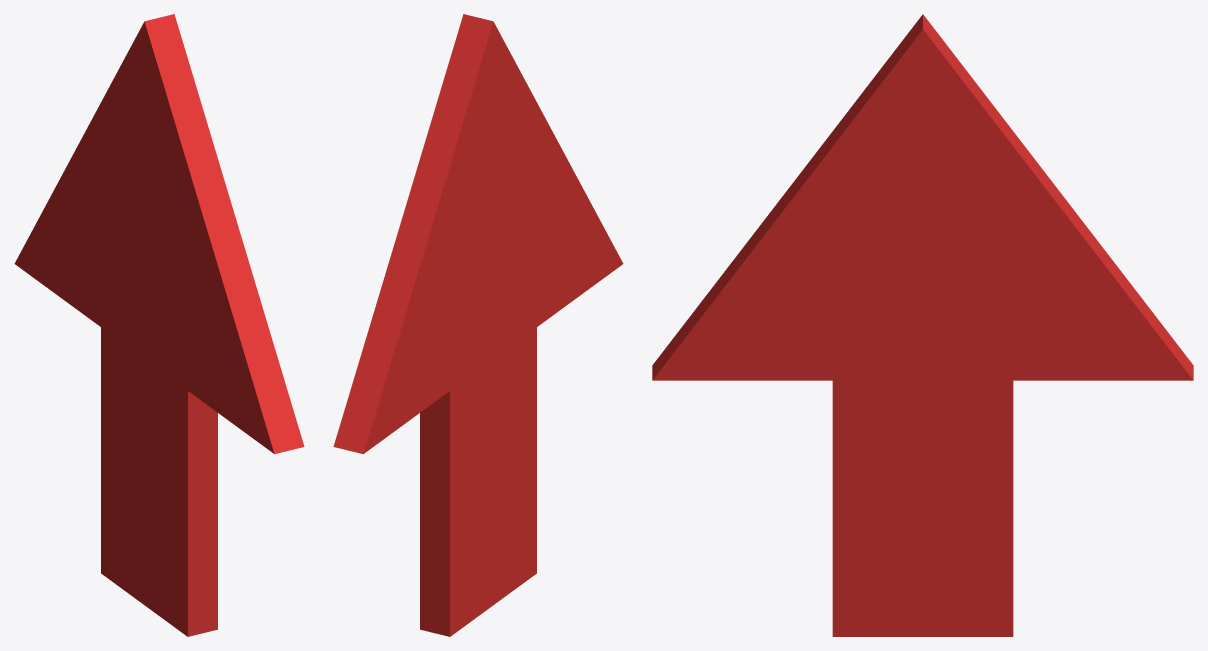
Rendered from red_arrow.glb.
The picture shows the model from 3 angles, left to right: view 1: azimuth 30°, elevation 25°; view 2: azimuth 150°, elevation 25°; view 3: azimuth 270°, elevation 25°; orthographic projection. The views are drawn at different scales.
Visible parts, largest first — view 1: Cube.001; view 2: Cube.001; view 3: Cube.001.
Part boxes in pixels (box(x1,y1,x2,y2)): Cube.001: box(14, 14, 304, 636); Cube.001: box(333, 14, 623, 636); Cube.001: box(652, 14, 1193, 636).
Bounding box in the file's own units: 0.1332 × 2.48 × 2.
